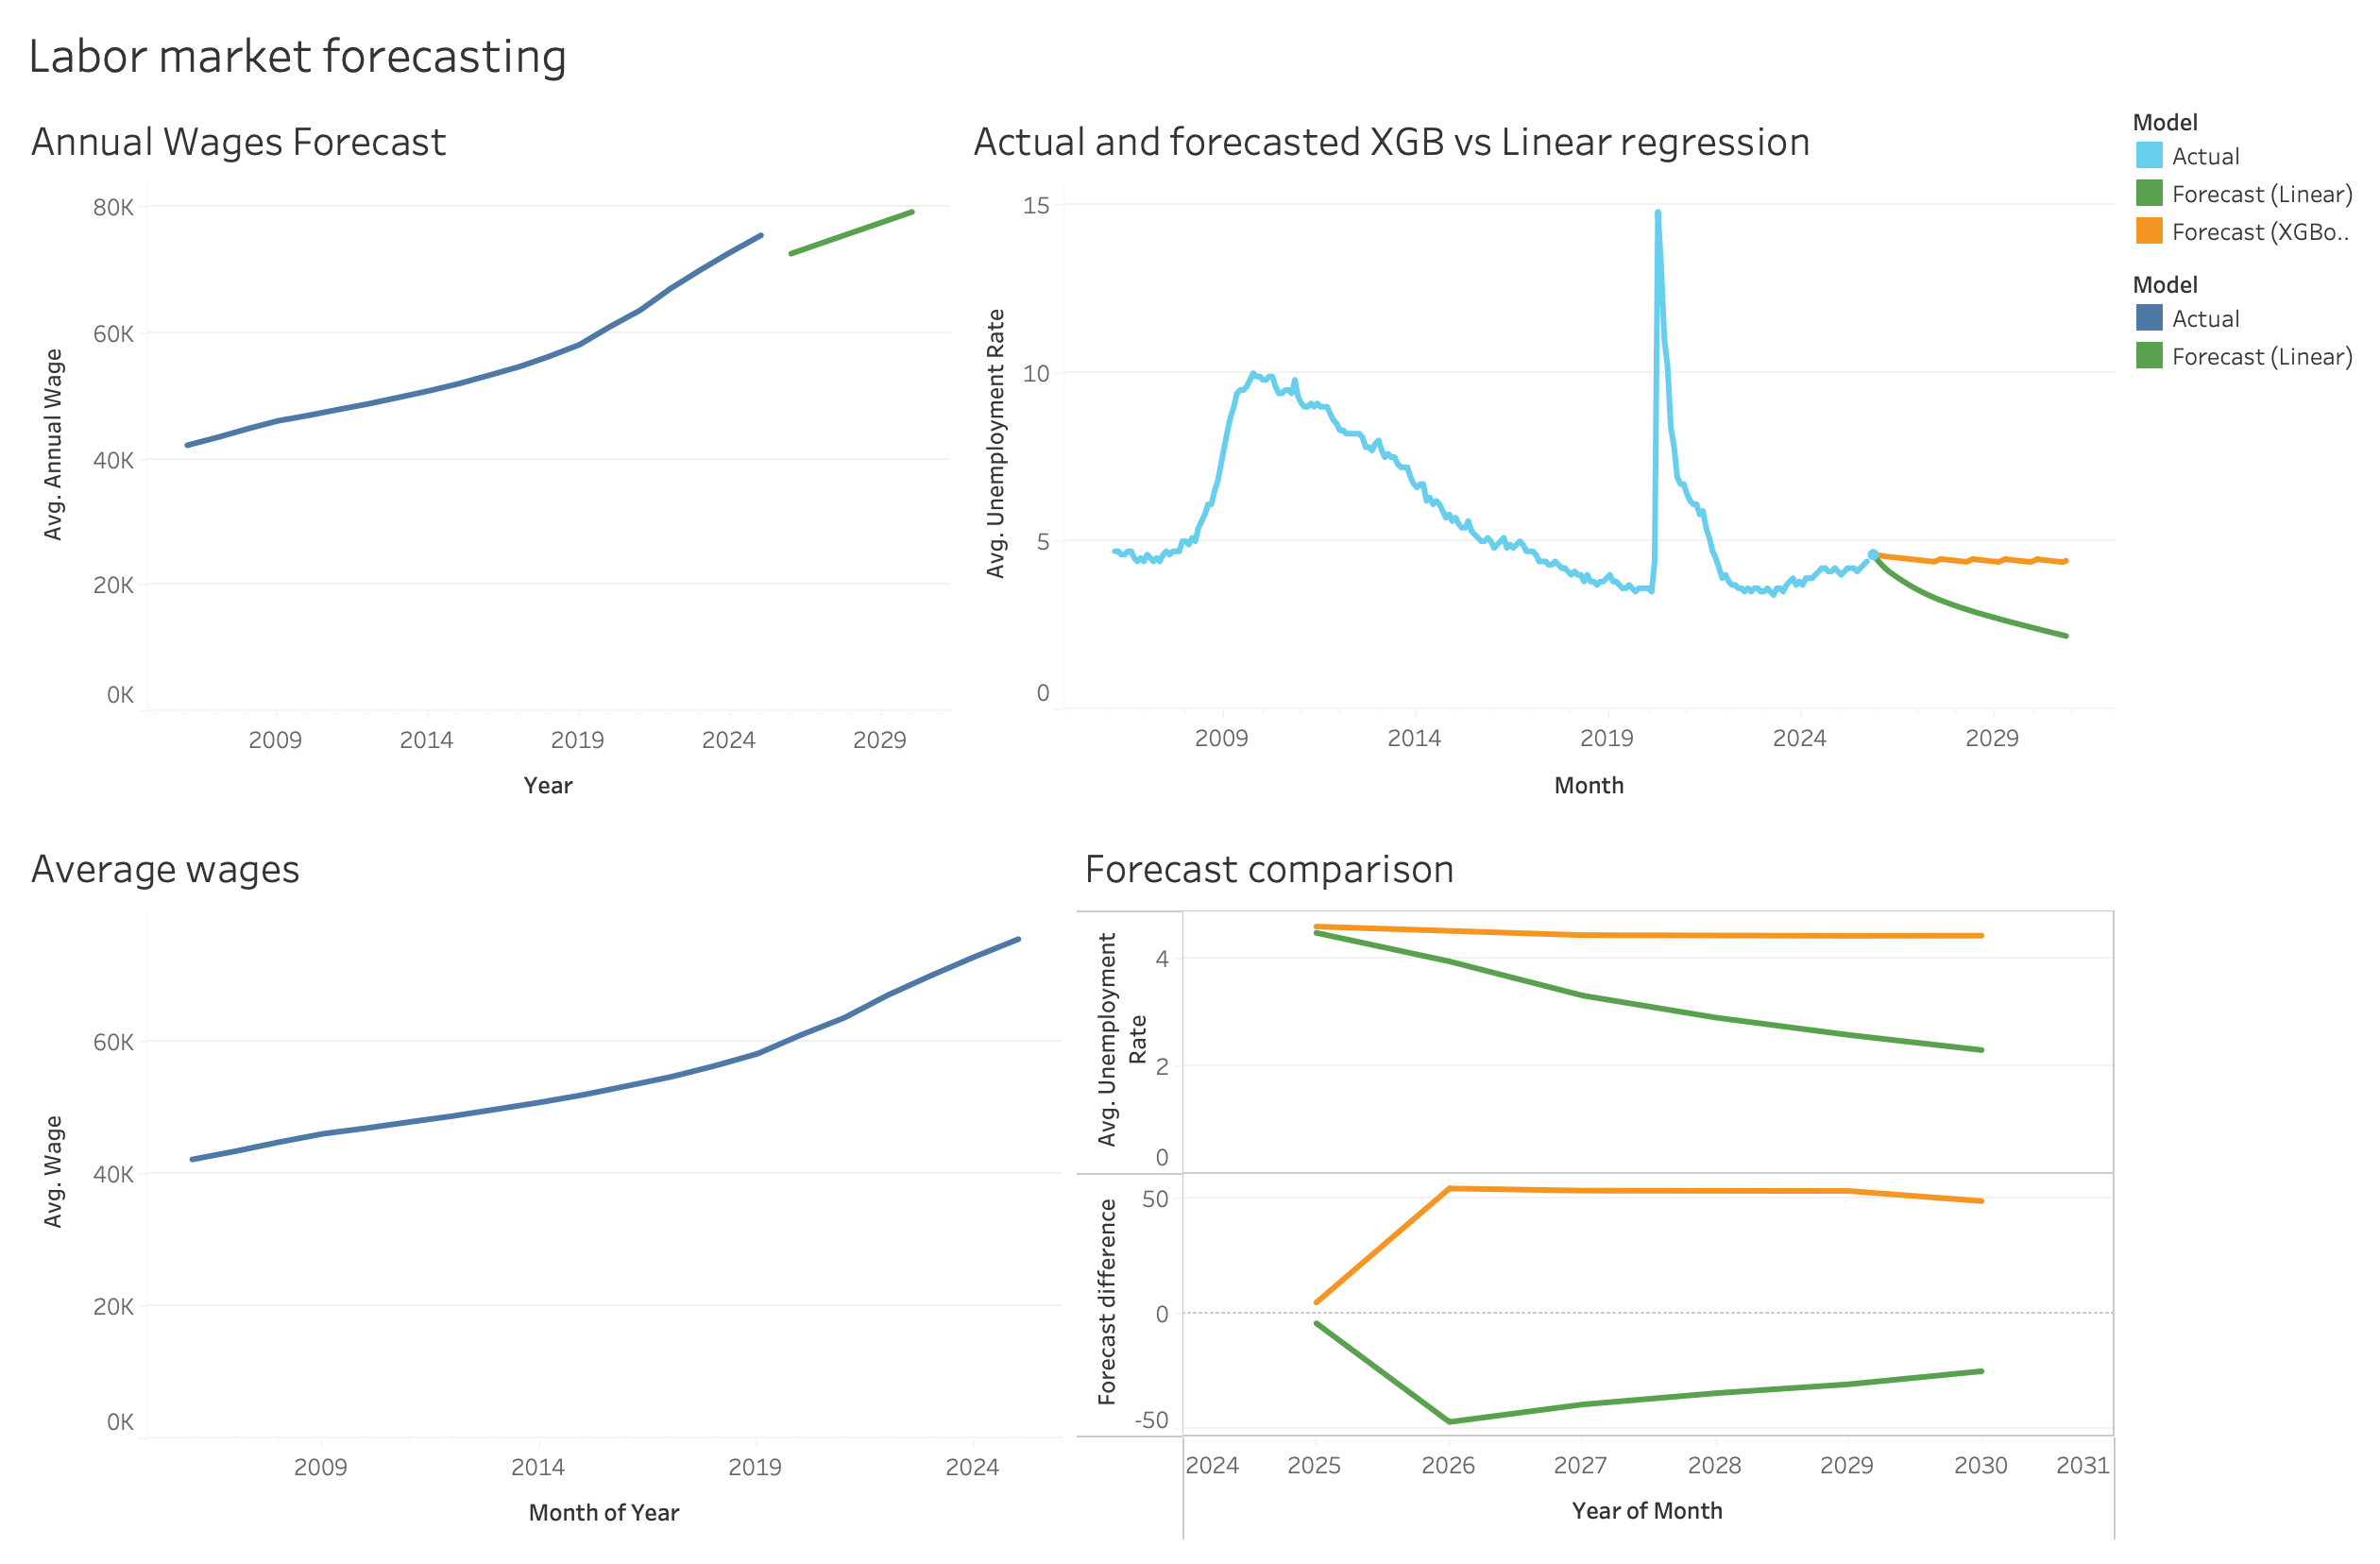

The dashboard page shown, as its layout file describes it:
{"tool":"tableau","page":{"name":"Dashboard 1","canvas":[1000,1000],"units":"permille","ordinal":0},"visuals":[{"type":"title","box":[6.4,9.7,987.3,50.7]},{"type":"worksheet","title":"Annual Wages Forecast","mark":"Automatic","rows":["annual_wage"],"cols":["year"],"box":[6.4,60.4,396.1,465]},{"type":"worksheet","title":"Actual and forecasted XGB vs Linear regression","mark":"Automatic","rows":["unemployment_rate"],"cols":["month"],"box":[402.4,60.4,489.6,465]},{"type":"legend","title":"Actual and forecasted XGB vs Linear regression","param":"[federated.1qhf0qg1athpf81er67g71c7r9bt].[none:model:nk]","box":[892.1,60.4,101.6,103.9]},{"type":"legend","title":"Annual Wages Forecast","param":"[federated.0si5g2i1yx2cwi13yst6b0ydbxtr].[none:model:nk]","box":[892.1,164.2,101.6,79.7]},{"type":"worksheet","title":"Average wages","mark":"Automatic","rows":["F2"],"cols":["F1"],"box":[6.4,525.4,442.8,465]},{"type":"worksheet","title":"Forecast comparison","mark":"Automatic","rows":["unemployment_rate","Calculation_0668945372102672"],"cols":["month"],"box":[449.2,525.4,442.9,465]}]}

Visuals, with their boxes on the dashboard's canvas, which has no fixed pixel size, in thousandths of its width and height (x1, y1, x2, y2). These are canvas units, not pixel positions in the 2380x1564 screenshot, which may show the page scaled, cropped or inside an application window:
title: {"x1": 6, "y1": 10, "x2": 994, "y2": 60}
"Annual Wages Forecast" worksheet: {"x1": 6, "y1": 60, "x2": 402, "y2": 525}
"Actual and forecasted XGB vs Linear regression" worksheet: {"x1": 402, "y1": 60, "x2": 892, "y2": 525}
"Actual and forecasted XGB vs Linear regression" legend: {"x1": 892, "y1": 60, "x2": 994, "y2": 164}
"Annual Wages Forecast" legend: {"x1": 892, "y1": 164, "x2": 994, "y2": 244}
"Average wages" worksheet: {"x1": 6, "y1": 525, "x2": 449, "y2": 990}
"Forecast comparison" worksheet: {"x1": 449, "y1": 525, "x2": 892, "y2": 990}
